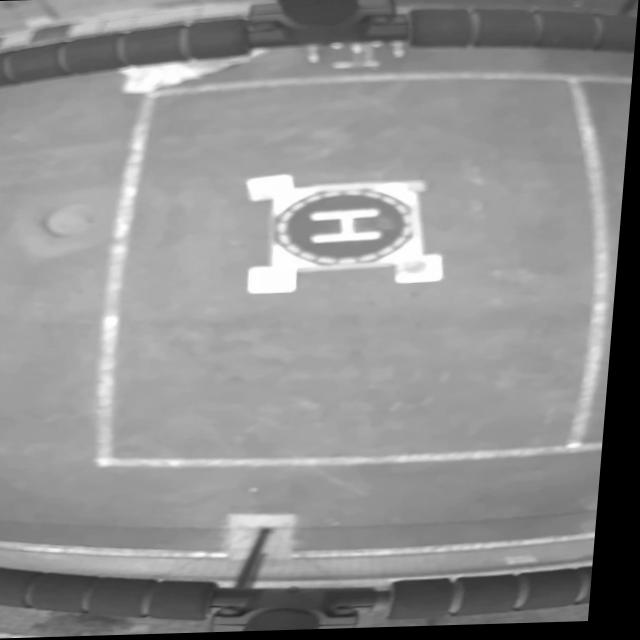Helipad: (314, 209, 387, 244)
